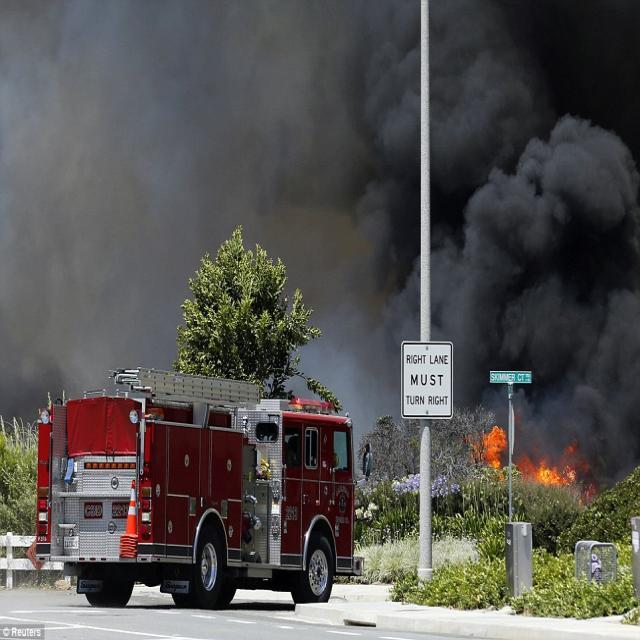Fire: (466, 410, 596, 502)
Smoke: (0, 0, 639, 510)
